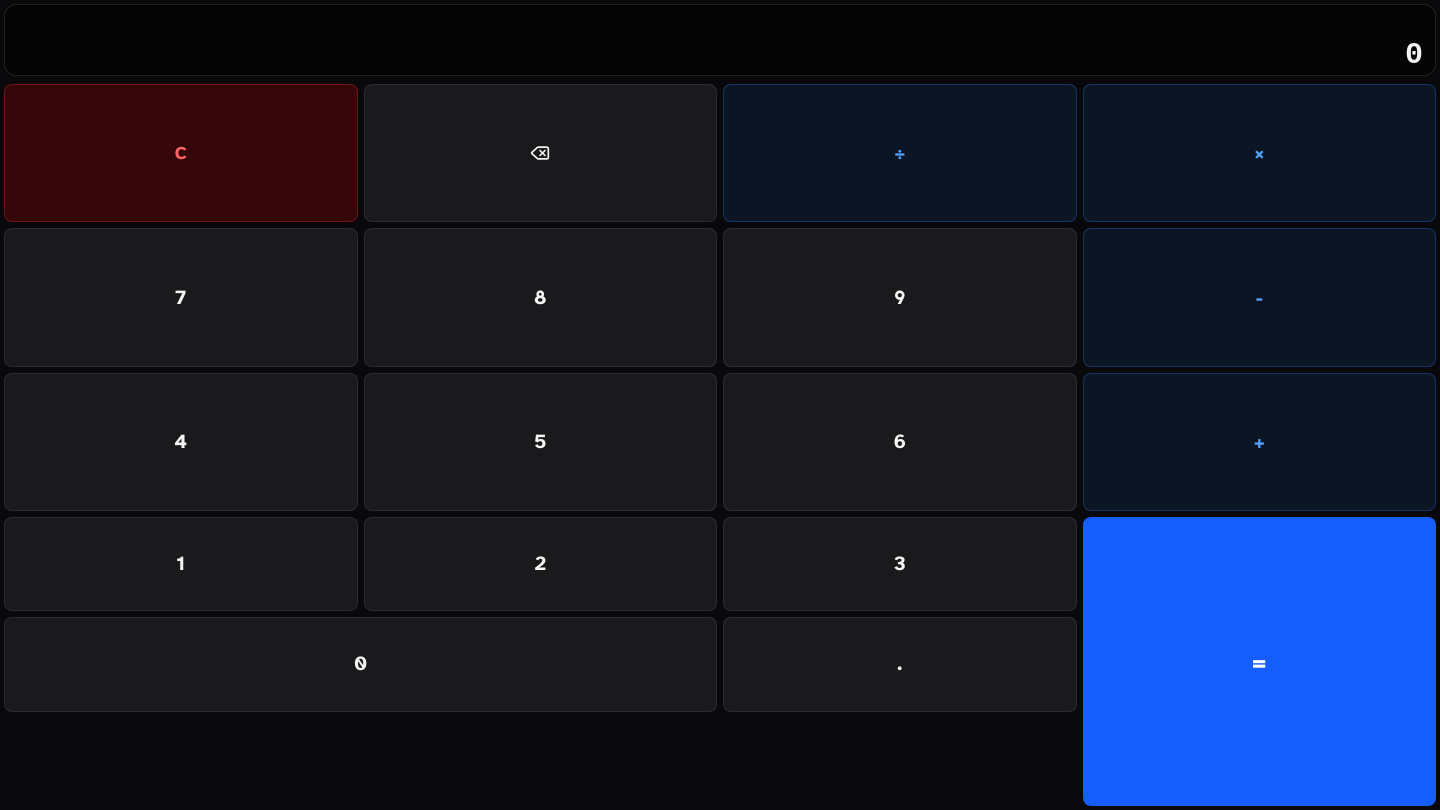
Test: CalculatorWidget › clears input when C is clicked
Click the button "9": [900, 298] box [723,228,1076,367]
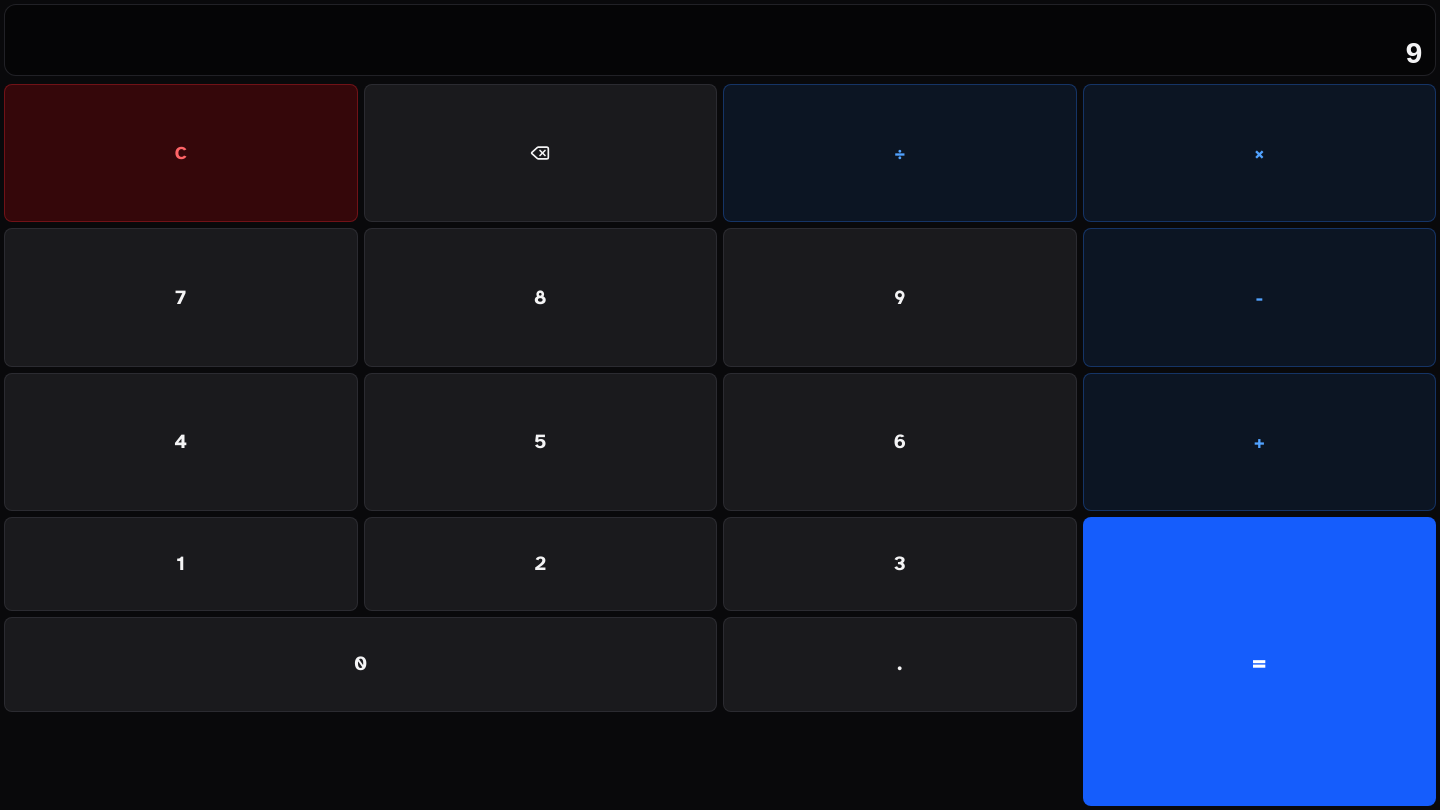
Now the text with test id "calc-display" reads "9", box [1405,38,1423,72]
Click the button named "Clear calculator": [181, 153] box [4,84,358,222]
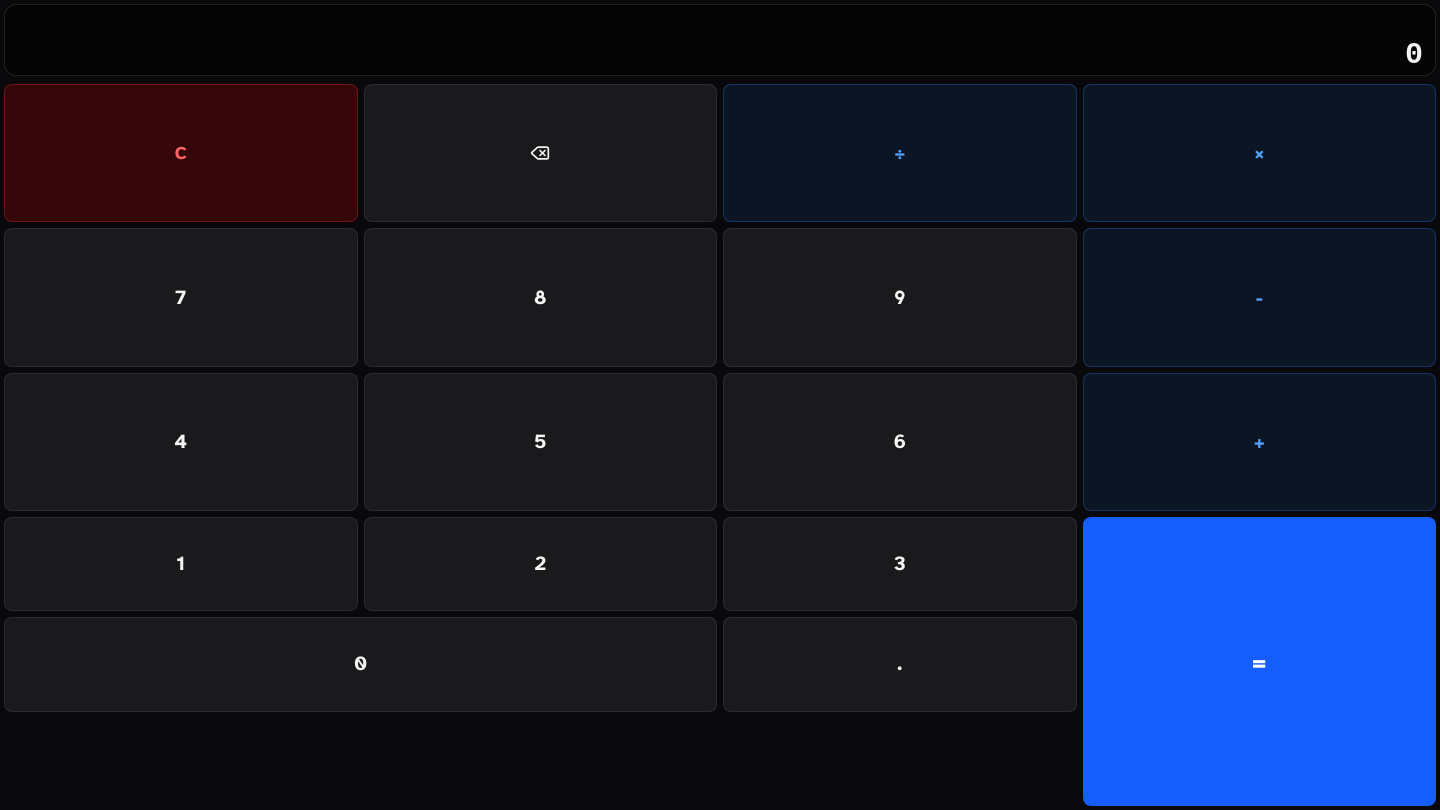
Now the text with test id "calc-display" reads "0", box [1405,38,1423,72]
